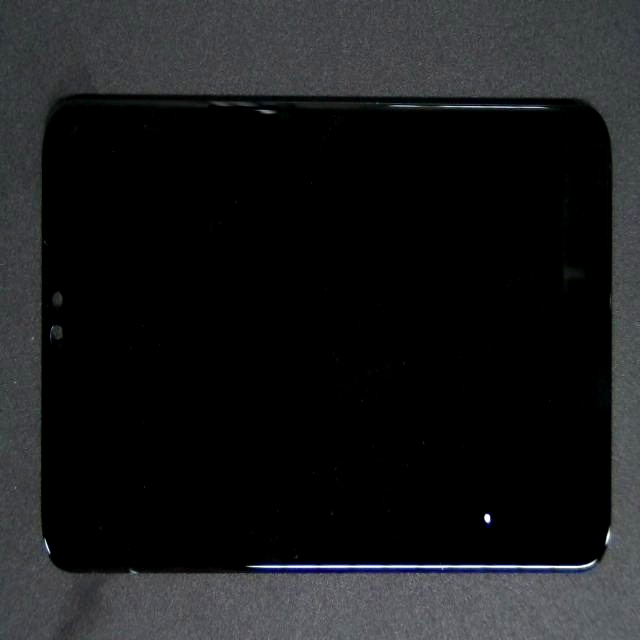stain: (258, 261, 640, 640)
